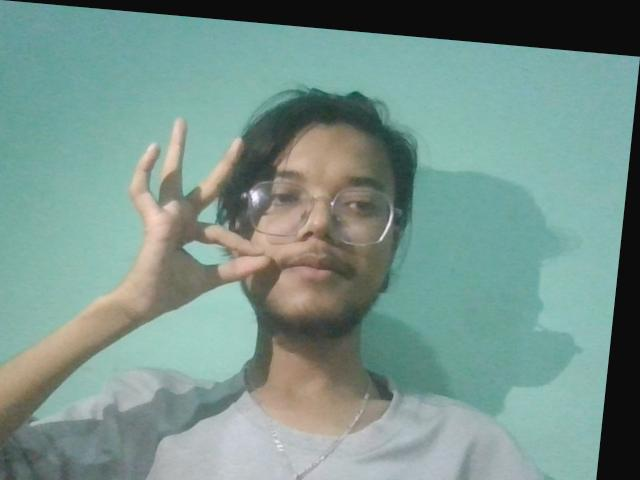Cat: (109, 104, 292, 347)
